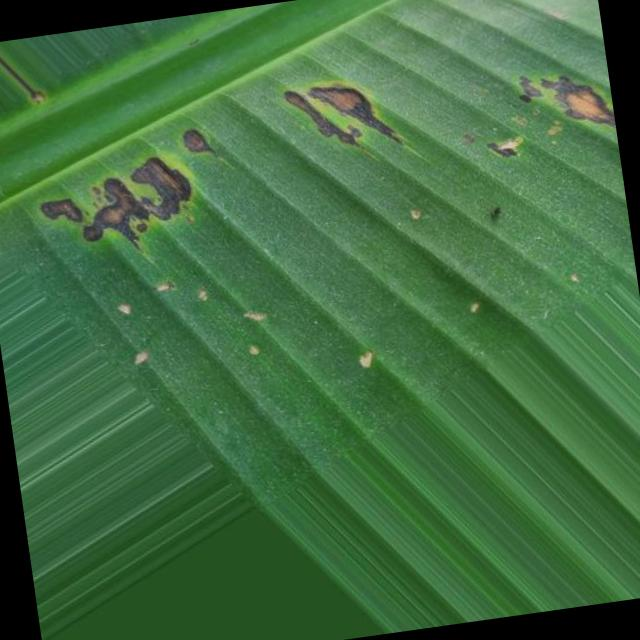Banana_Black_Sigatoka: (20, 92, 235, 272), (252, 58, 427, 186), (468, 64, 620, 174)
